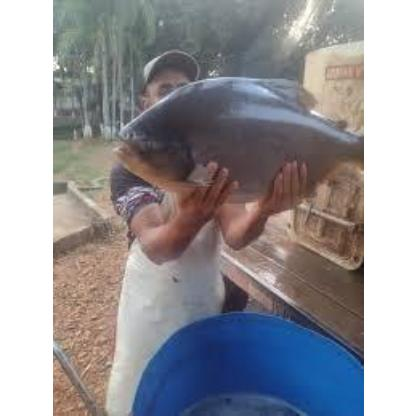ikan-pacu: (113, 75, 363, 205)
